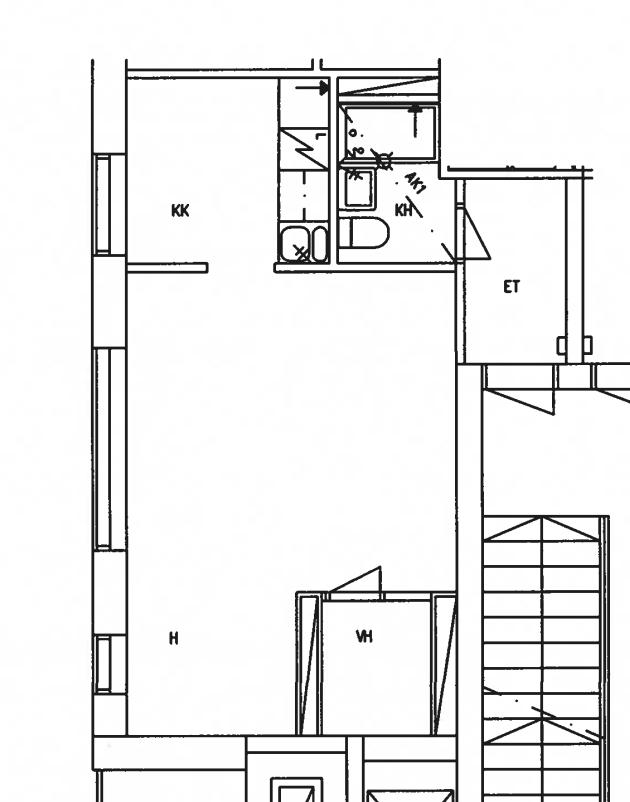bathroom: (336, 166, 457, 265)
door: (488, 374, 560, 422), (325, 564, 385, 600), (460, 202, 492, 264)
perimeter: (84, 65, 617, 774)
stairs: (483, 515, 604, 771)
window: (86, 334, 134, 557), (83, 143, 133, 257), (87, 629, 132, 705)
